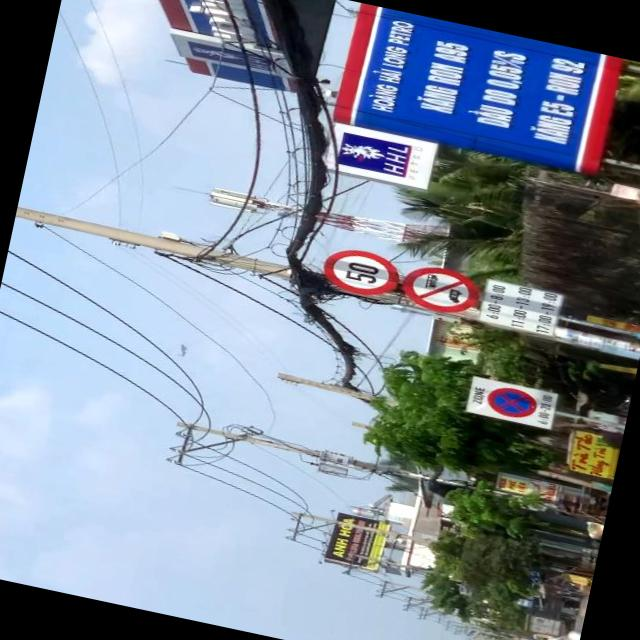P-127: (319, 242, 404, 301)
P-130: (482, 380, 540, 422)
